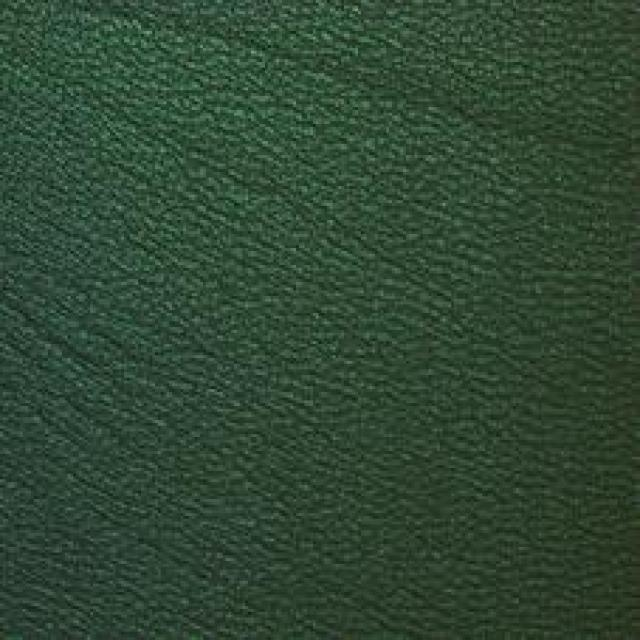Growth Marks: (244, 56, 579, 154)
